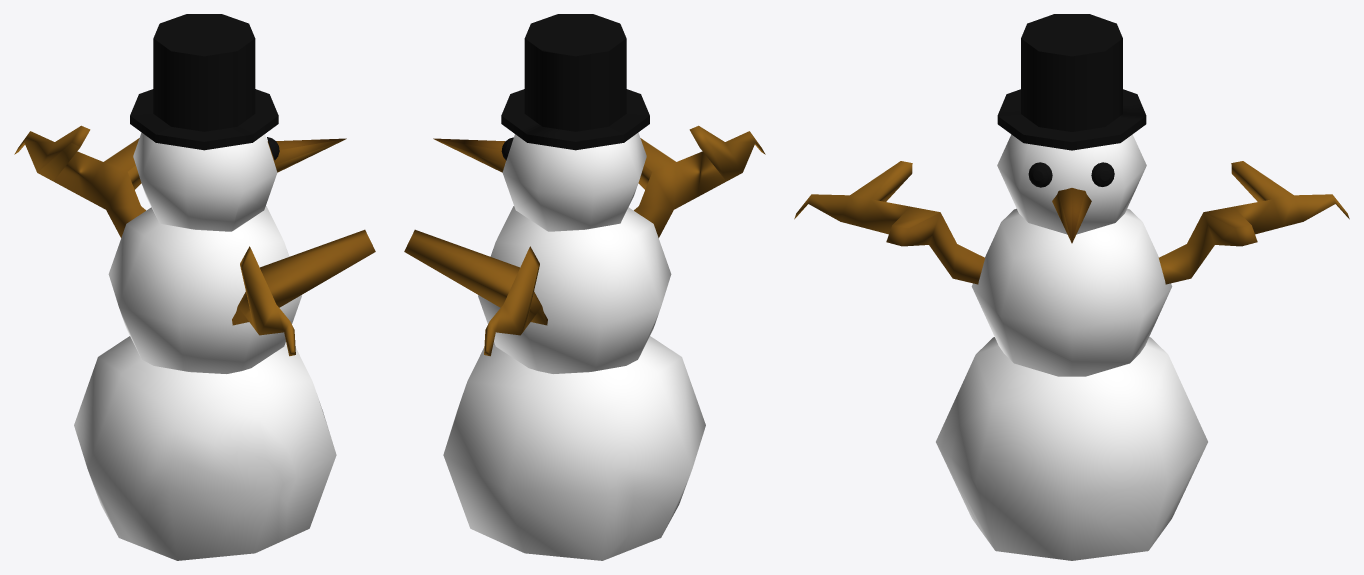
The model's file is Snow Man.fbx.
3 renders of one model, left to right at view 1: azimuth 30°, elevation 25°; view 2: azimuth 150°, elevation 25°; view 3: azimuth 270°, elevation 25°, orthographic.
Parts seen in each view (by area): view 1: Snow_Man; view 2: Snow_Man; view 3: Snow_Man.
Part boxes in pixels (bbox=[...]): Snow_Man: bbox=[14, 14, 375, 560]; Snow_Man: bbox=[404, 14, 765, 560]; Snow_Man: bbox=[794, 14, 1349, 560].
Size of the model in its own units: 2059 by 3649 by 3799.
